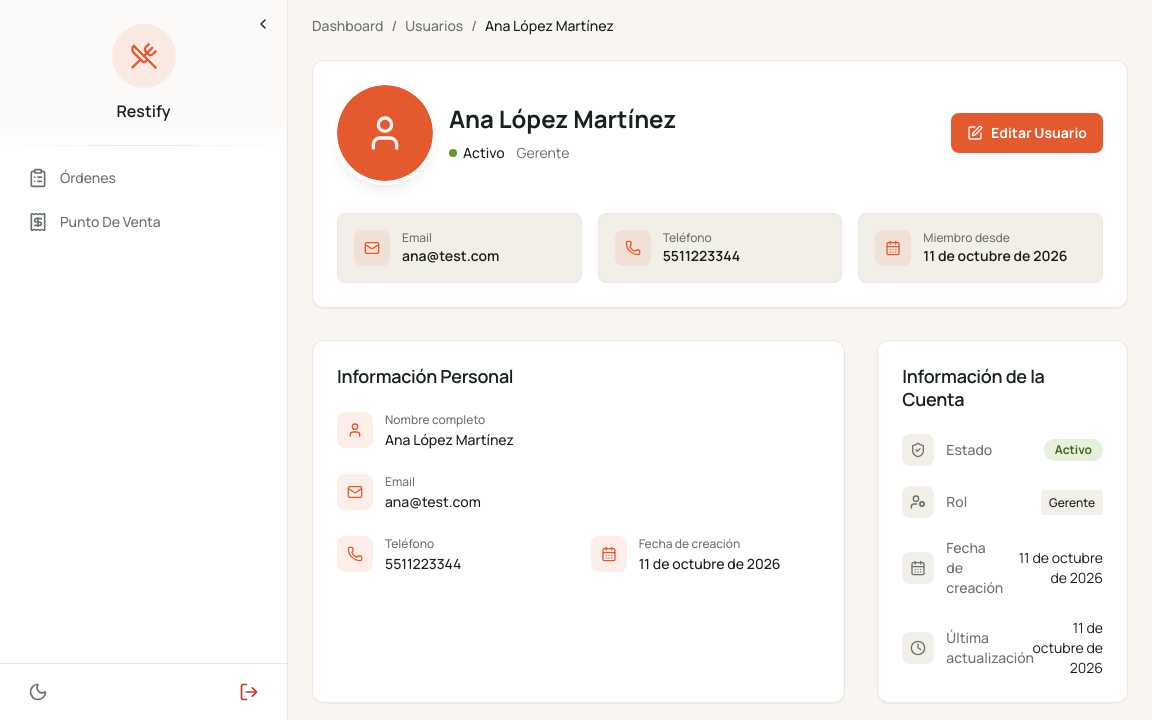
Test: UserDetailPage (integración) › abre el modal de edición al hacer clic en Editar Usuario
Expected: the heading "Ana López Martínez" is shown, [449,103,676,135]
What coordinates should you click on to do the following:
click the button "Editar Usuario"
I would click on:
 (1027, 133)
Its box is [951,113,1103,153].
(page scrolled)
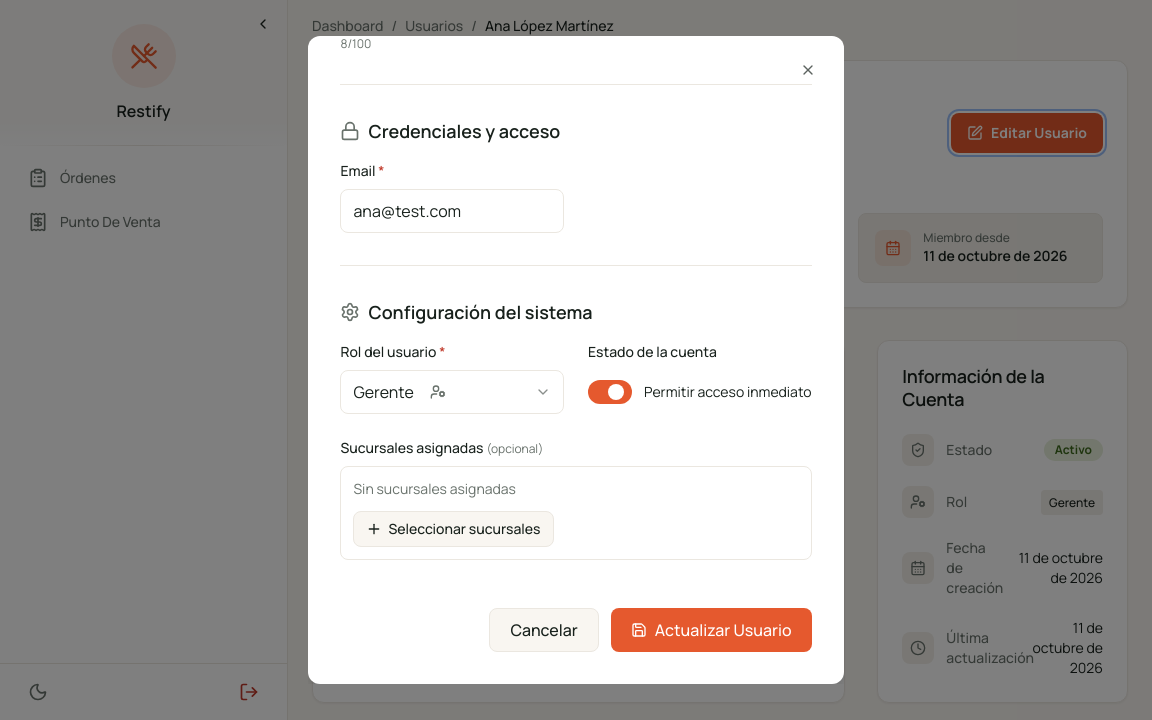
Now the field showing "ana@test.com" is shown, box [340,189,564,233]
Now the button "Actualizar Usuario" is shown, box [611,608,812,652]
